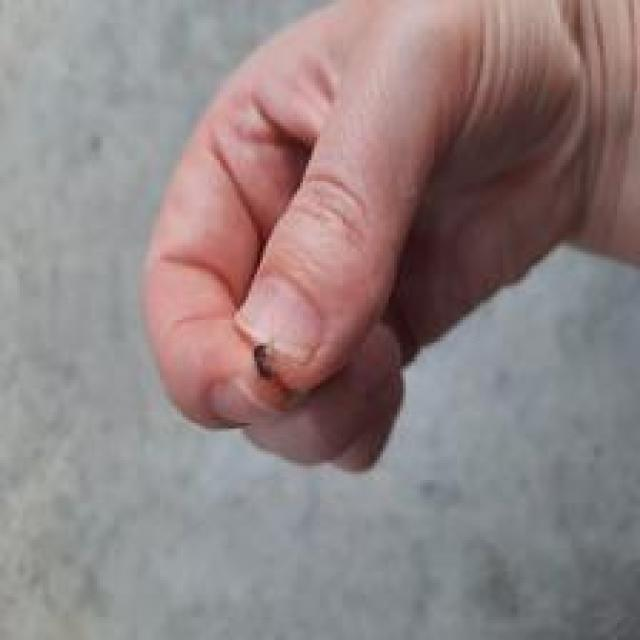Aedes albopictus: (252, 340, 277, 380)
